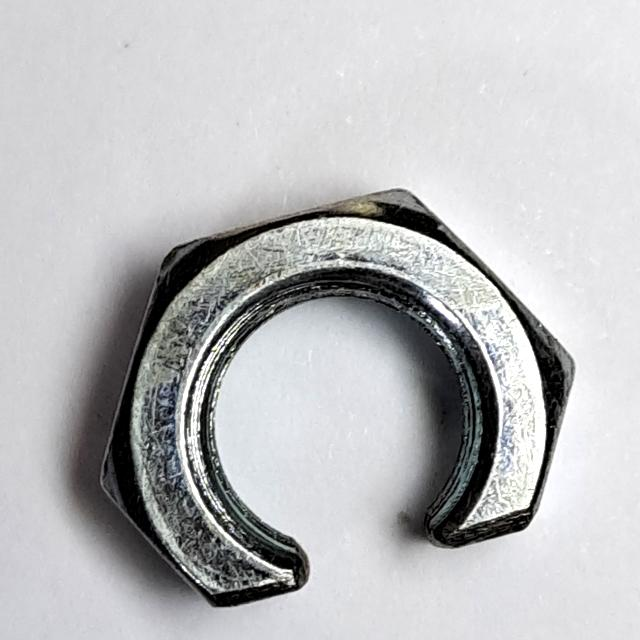Fracture: (89, 182, 583, 625)
